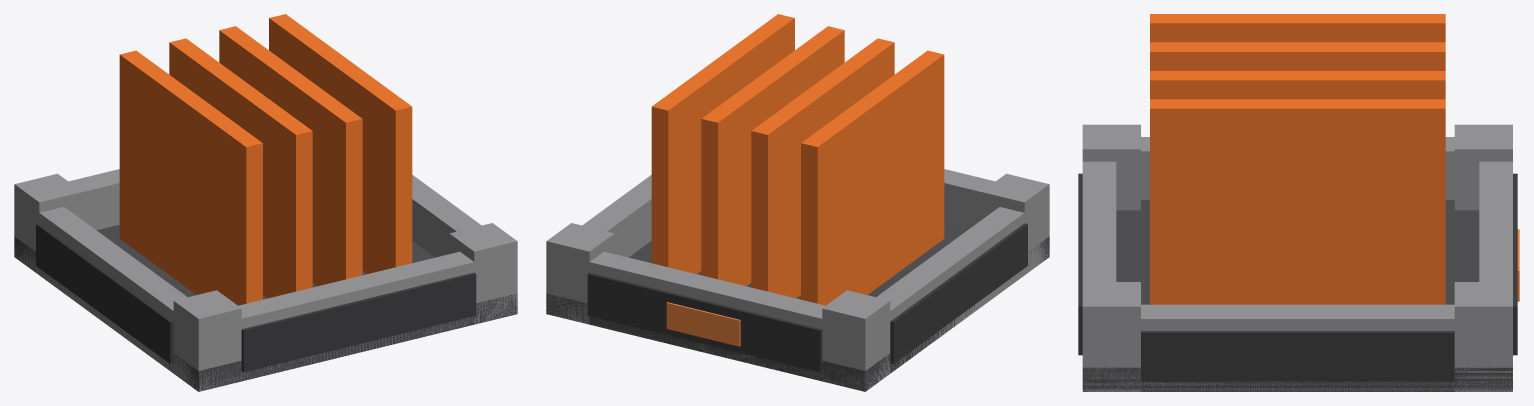
File: vge_small_heatsink_hot.obj
The picture shows the model from 3 angles, left to right: view 1: azimuth 30°, elevation 25°; view 2: azimuth 150°, elevation 25°; view 3: azimuth 270°, elevation 25°; orthographic projection. The views are drawn at different scales.
Parts seen in each view (by area): view 1: vge_small_heatsink_hot_9, vge_small_heatsink_hot_11, vge_small_heatsink_hot_12, vge_small_heatsink_hot_10, vge_small_heatsink_hot_1, vge_small_heatsink_hot_13, vge_small_heatsink_hot_3, vge_small_heatsink_hot_15, vge_small_heatsink_hot_0, vge_small_heatsink_hot_5, vge_small_heatsink_hot_2, vge_small_heatsink_hot_4 (+2 smaller); view 2: vge_small_heatsink_hot_9, vge_small_heatsink_hot_11, vge_small_heatsink_hot_12, vge_small_heatsink_hot_10, vge_small_heatsink_hot_2, vge_small_heatsink_hot_14, vge_small_heatsink_hot_0, vge_small_heatsink_hot_15, vge_small_heatsink_hot_3, vge_small_heatsink_hot_6, vge_small_heatsink_hot_8, vge_small_heatsink_hot_1 (+3 smaller); view 3: vge_small_heatsink_hot_12, vge_small_heatsink_hot_16, vge_small_heatsink_hot_4, vge_small_heatsink_hot_0, vge_small_heatsink_hot_9, vge_small_heatsink_hot_10, vge_small_heatsink_hot_11, vge_small_heatsink_hot_1, vge_small_heatsink_hot_2, vge_small_heatsink_hot_7, vge_small_heatsink_hot_8, vge_small_heatsink_hot_6 (+4 smaller).
Part boxes in pixels (left/top/right/bottom): vge_small_heatsink_hot_9: left=119, top=50, right=262, bottom=305; vge_small_heatsink_hot_11: left=219, top=26, right=362, bottom=286; vge_small_heatsink_hot_12: left=269, top=14, right=412, bottom=273; vge_small_heatsink_hot_10: left=169, top=38, right=312, bottom=298; vge_small_heatsink_hot_1: left=184, top=251, right=517, bottom=390; vge_small_heatsink_hot_13: left=241, top=272, right=476, bottom=372; vge_small_heatsink_hot_3: left=29, top=205, right=187, bottom=380; vge_small_heatsink_hot_15: left=36, top=223, right=173, bottom=363; vge_small_heatsink_hot_0: left=14, top=225, right=517, bottom=391; vge_small_heatsink_hot_5: left=173, top=290, right=241, bottom=390; vge_small_heatsink_hot_2: left=14, top=169, right=119, bottom=266; vge_small_heatsink_hot_4: left=412, top=175, right=481, bottom=257; vge_small_heatsink_hot_9: left=801, top=50, right=944, bottom=305; vge_small_heatsink_hot_11: left=701, top=26, right=844, bottom=286; vge_small_heatsink_hot_12: left=651, top=14, right=794, bottom=273; vge_small_heatsink_hot_10: left=751, top=38, right=894, bottom=298; vge_small_heatsink_hot_2: left=546, top=251, right=879, bottom=391; vge_small_heatsink_hot_14: left=587, top=272, right=822, bottom=372; vge_small_heatsink_hot_0: left=546, top=225, right=1049, bottom=391; vge_small_heatsink_hot_15: left=890, top=223, right=1027, bottom=363; vge_small_heatsink_hot_3: left=876, top=205, right=1034, bottom=378; vge_small_heatsink_hot_6: left=822, top=290, right=890, bottom=391; vge_small_heatsink_hot_8: left=546, top=223, right=614, bottom=324; vge_small_heatsink_hot_1: left=944, top=169, right=1049, bottom=267; vge_small_heatsink_hot_12: left=1150, top=99, right=1445, bottom=304; vge_small_heatsink_hot_16: left=1141, top=331, right=1454, bottom=381; vge_small_heatsink_hot_4: left=1116, top=304, right=1479, bottom=391; vge_small_heatsink_hot_0: left=1082, top=200, right=1512, bottom=391; vge_small_heatsink_hot_9: left=1150, top=14, right=1445, bottom=42; vge_small_heatsink_hot_10: left=1150, top=42, right=1445, bottom=70; vge_small_heatsink_hot_11: left=1150, top=71, right=1445, bottom=99; vge_small_heatsink_hot_1: left=1082, top=161, right=1116, bottom=391; vge_small_heatsink_hot_2: left=1479, top=161, right=1512, bottom=391; vge_small_heatsink_hot_7: left=1082, top=282, right=1140, bottom=391; vge_small_heatsink_hot_8: left=1454, top=282, right=1512, bottom=391; vge_small_heatsink_hot_6: left=1454, top=124, right=1512, bottom=210.
Size of the model in its own units: 1.96 by 1.18 by 1.97.
